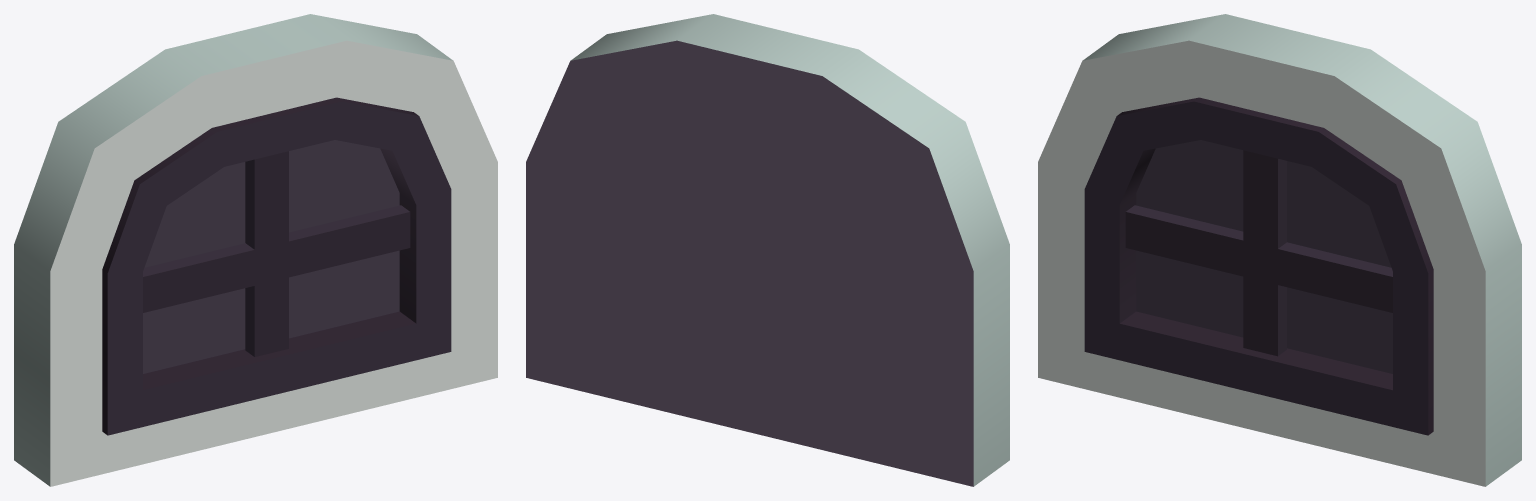
Rendered from Window01_White_Black.glb.
The picture shows the model from 3 angles, left to right: view 1: azimuth 30°, elevation 25°; view 2: azimuth 150°, elevation 25°; view 3: azimuth 330°, elevation 25°; orthographic projection.
Visible parts, largest first — view 1: Window01_White_Black; view 2: Window01_White_Black; view 3: Window01_White_Black.
Part boxes in pixels (left/top/right/bottom): Window01_White_Black: left=14, top=14, right=497, bottom=486; Window01_White_Black: left=526, top=14, right=1009, bottom=486; Window01_White_Black: left=1038, top=14, right=1521, bottom=486.
Size of the model in its own units: 0.8998 by 0.7186 by 0.1456.
1 material, 1 textured.
